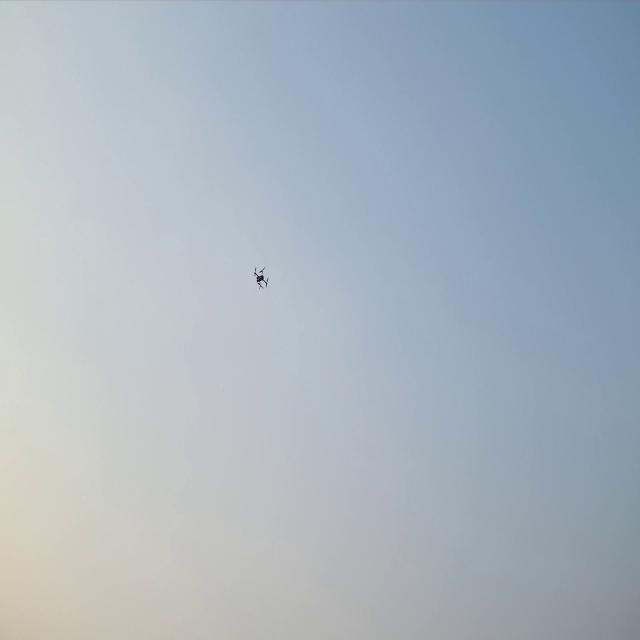UAV: (252, 263, 272, 292)
